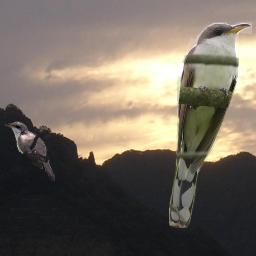Cuckoo: (169, 22, 252, 228), (4, 120, 55, 182)
